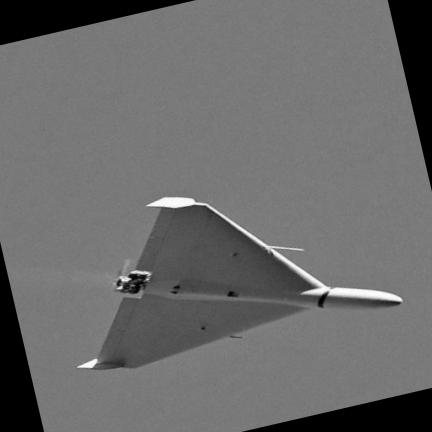Shahed: (77, 196, 404, 371)
